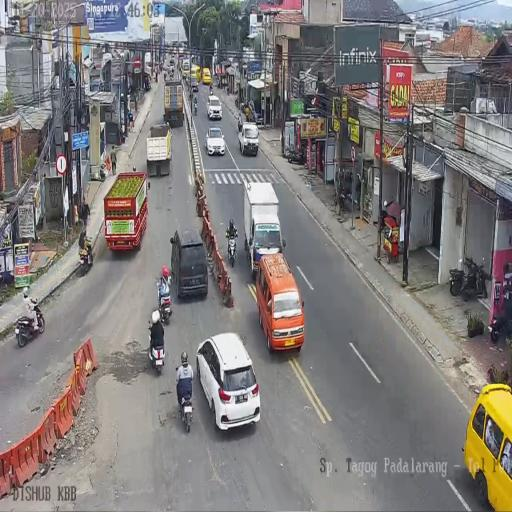3: (241, 179, 279, 278), (146, 123, 173, 177), (163, 81, 184, 128), (144, 51, 151, 74)
car: (196, 334, 262, 432), (257, 254, 305, 351), (170, 228, 208, 298), (238, 121, 259, 156), (205, 126, 225, 156), (207, 95, 222, 120), (191, 65, 201, 82), (202, 67, 211, 85), (182, 59, 189, 79), (170, 56, 174, 65)
truck: (450, 254, 488, 302), (15, 300, 46, 347), (490, 284, 512, 342), (176, 379, 194, 432), (148, 322, 165, 374), (157, 279, 172, 326), (285, 143, 304, 166), (226, 230, 237, 267), (193, 96, 198, 114), (170, 67, 174, 80), (209, 84, 213, 96), (164, 71, 166, 81)
